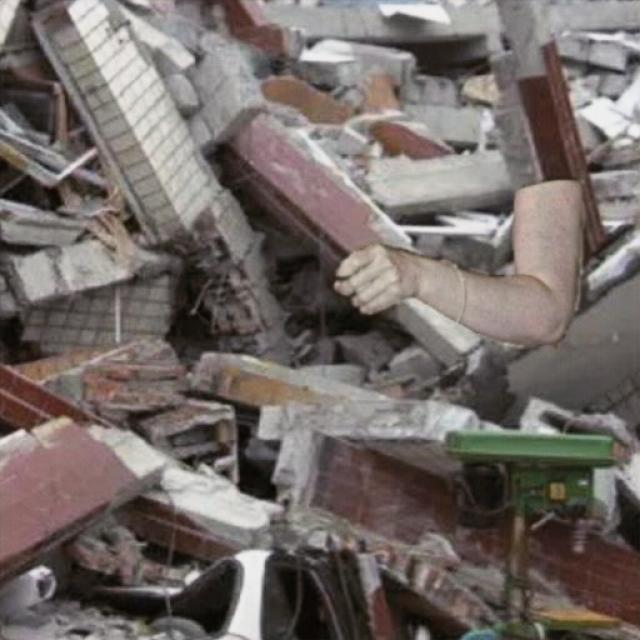Person in Rubble: (333, 178, 582, 346)
